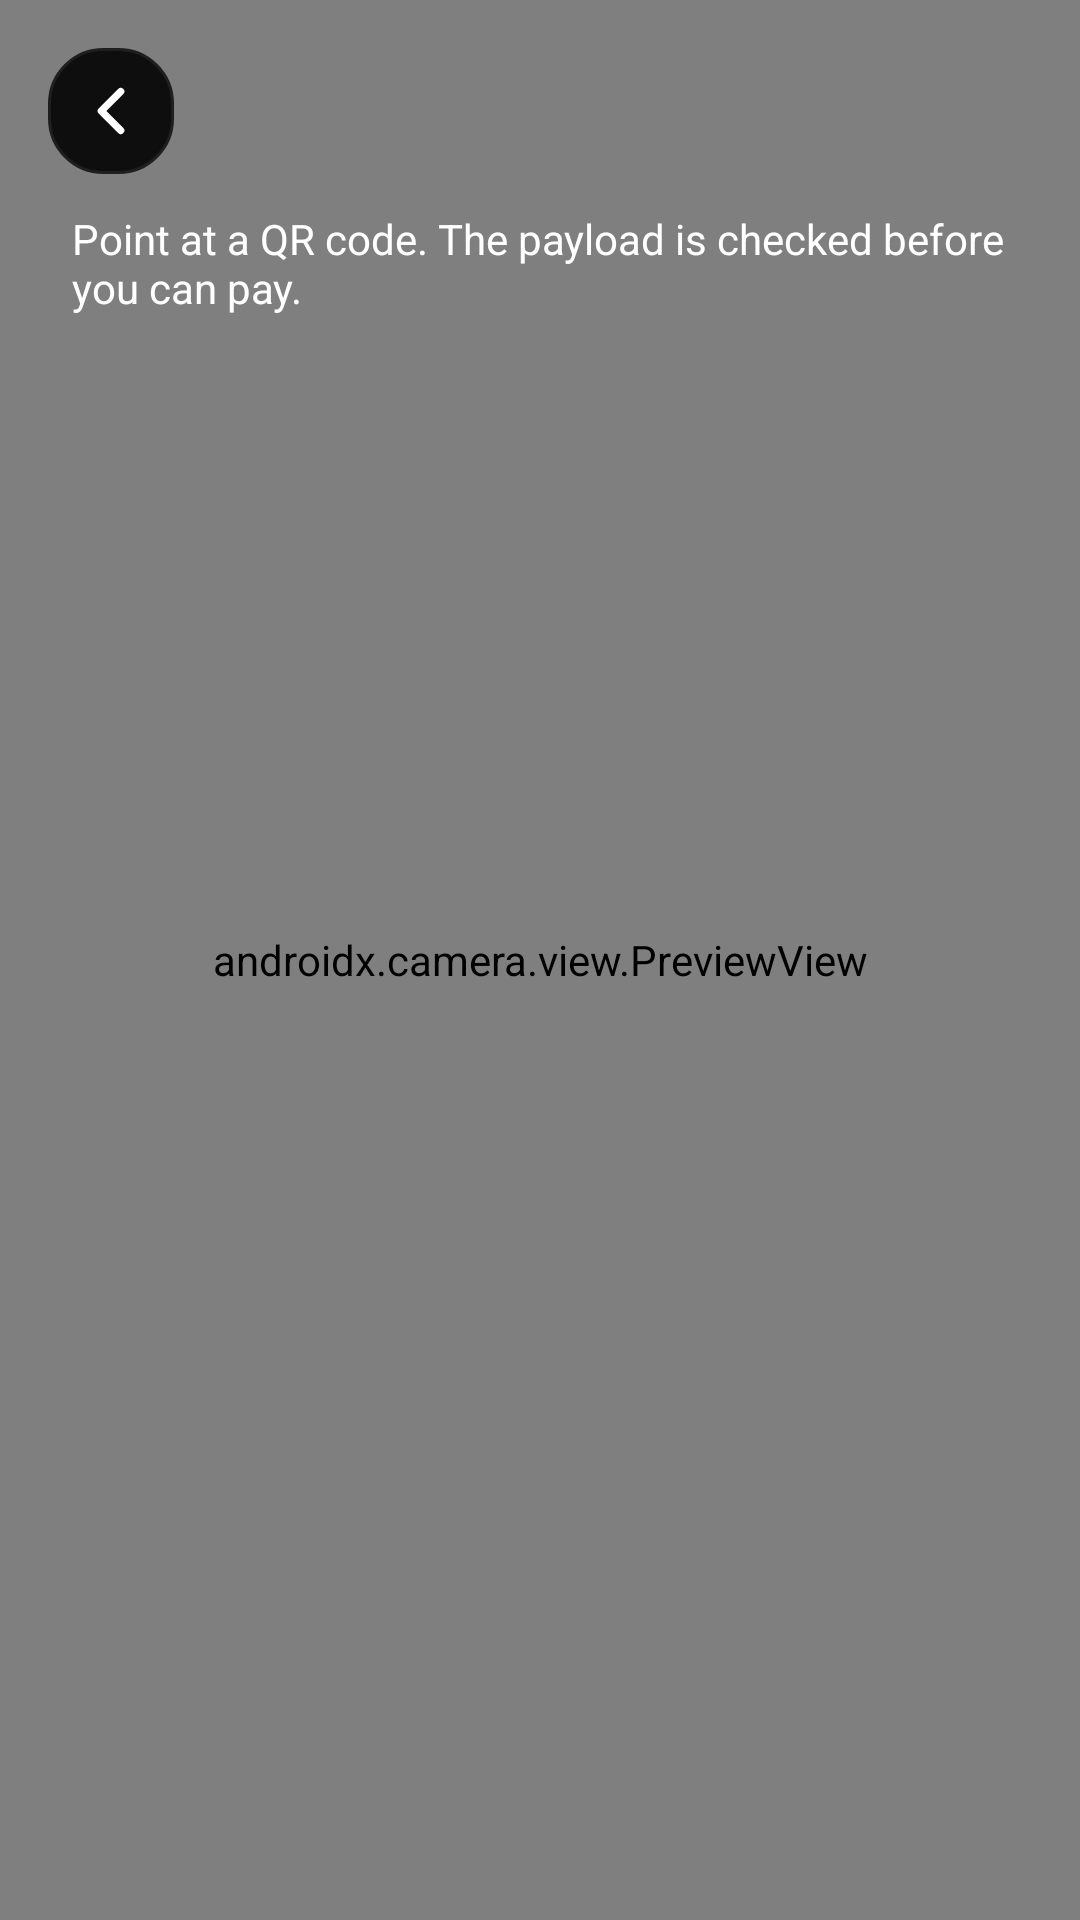

Icons on this 1080 x 1920 Android screen, each with the point to tap as [x,y]:
Back: [111,111]
